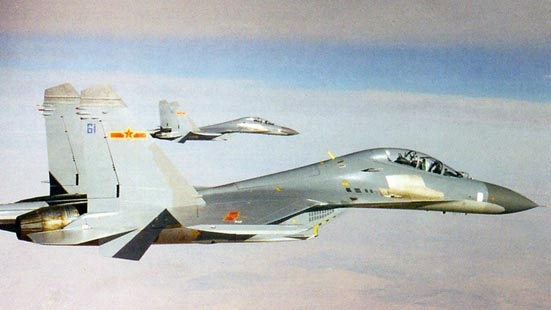airplane: (10, 87, 546, 265), (142, 103, 302, 145)
